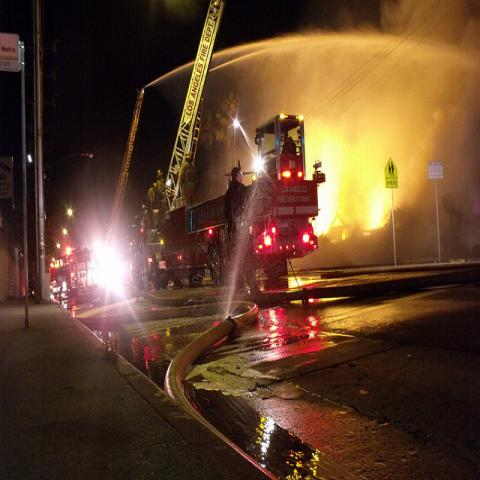truck: (130, 160, 326, 291)
